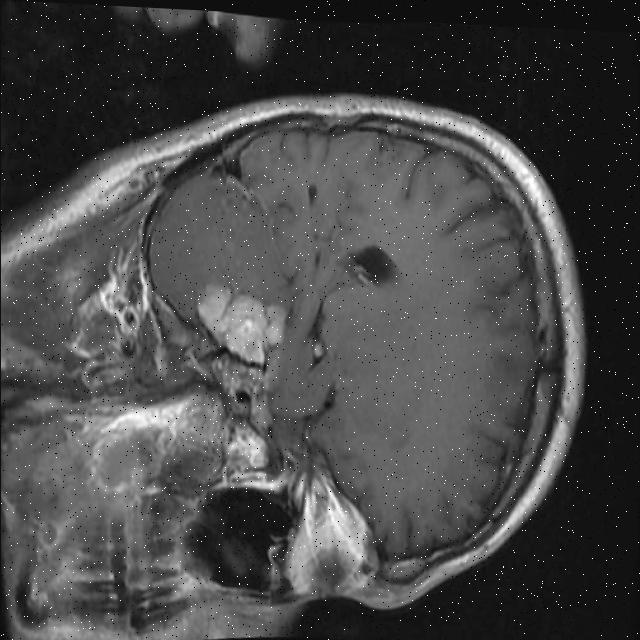Meningioma: (194, 281, 286, 369)
